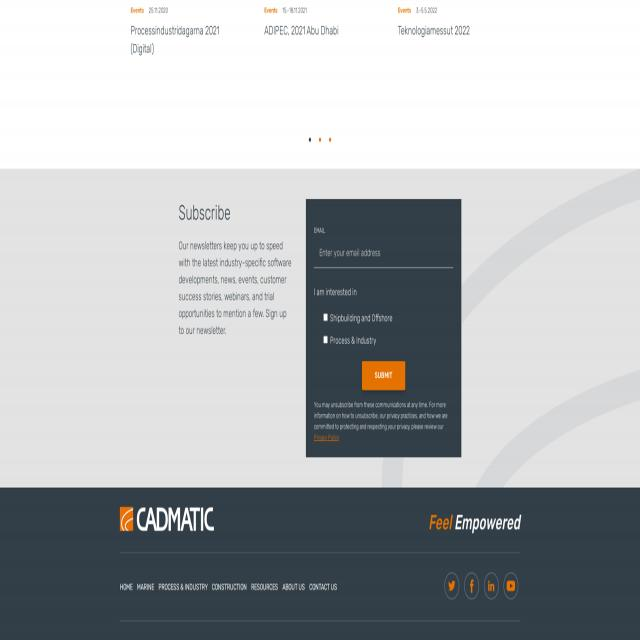button: (120, 507, 214, 531), (362, 362, 405, 391), (444, 572, 460, 600), (464, 572, 479, 600), (504, 572, 518, 600), (484, 572, 498, 600), (307, 135, 313, 146), (317, 135, 323, 146), (327, 135, 333, 146)
field: (314, 238, 453, 268), (323, 314, 328, 322), (323, 336, 328, 344)
